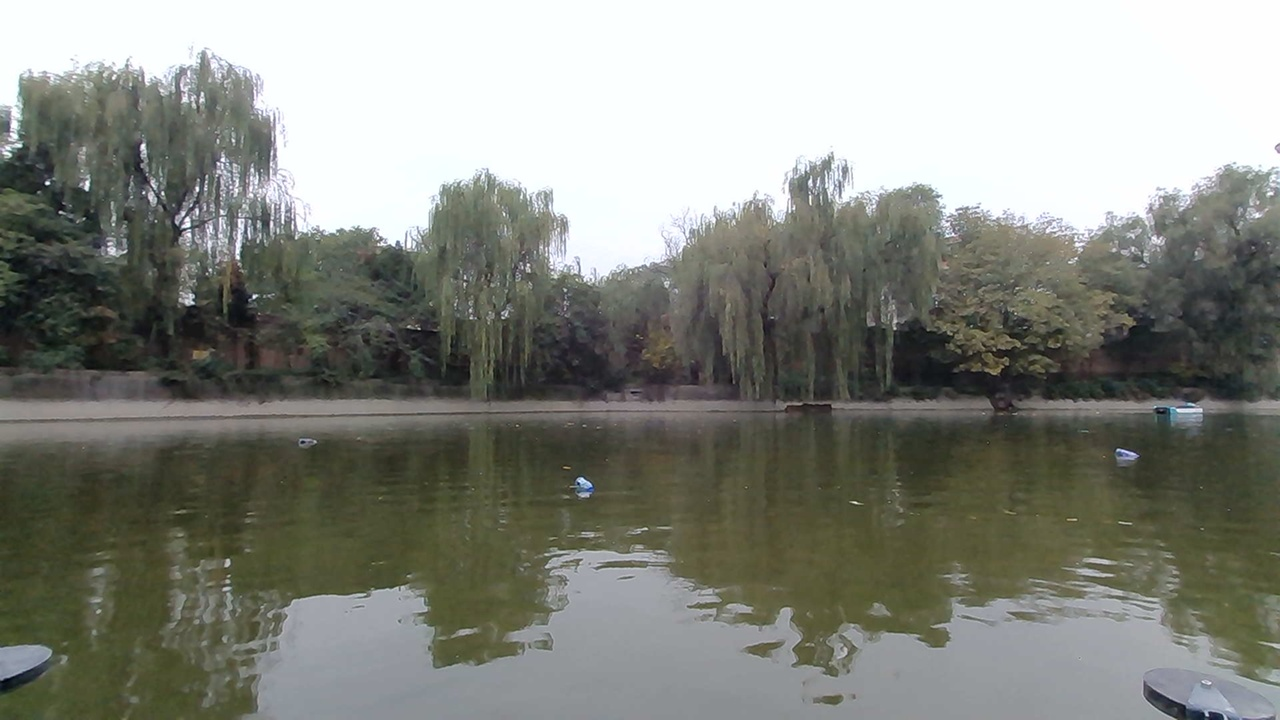bottle: (559, 467, 609, 504), (1107, 435, 1152, 469), (294, 420, 326, 454)
